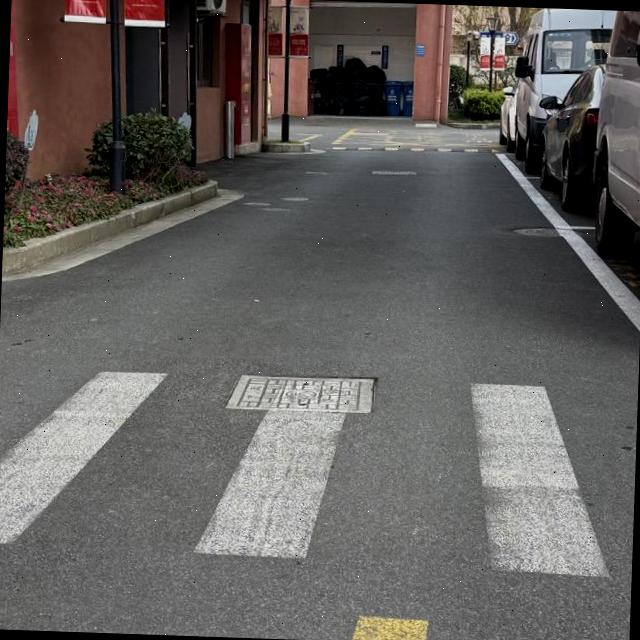curb: (1, 179, 216, 275), (261, 140, 309, 151), (447, 122, 497, 129)
